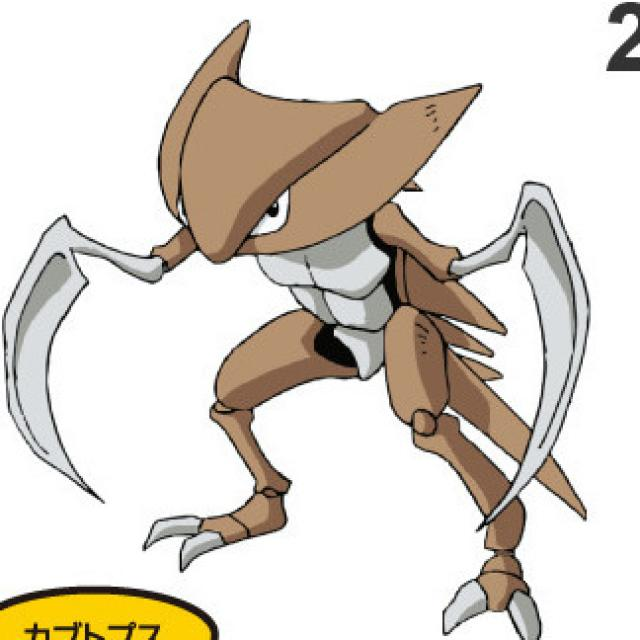Kabutops: (0, 11, 593, 640)
